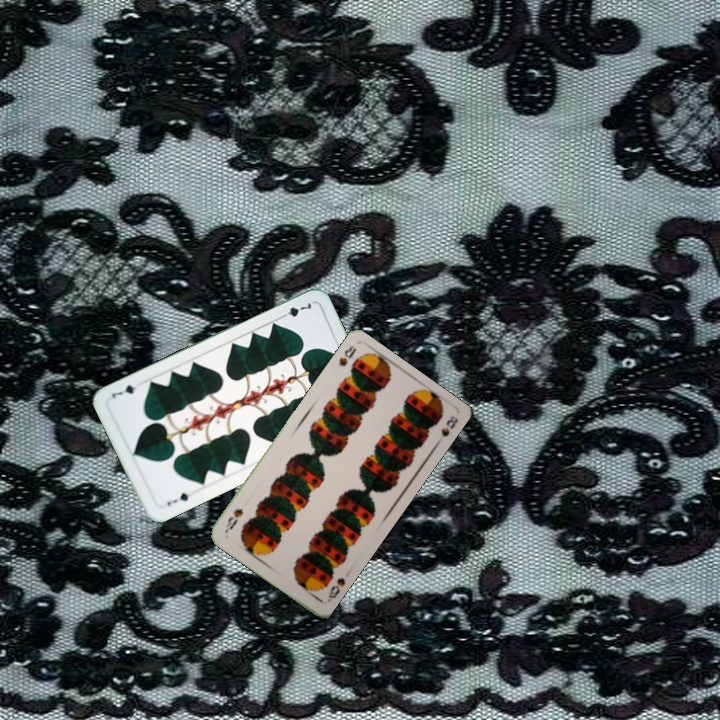G7: (276, 298, 315, 321), (163, 489, 196, 509)
S8: (323, 574, 348, 605), (335, 342, 359, 369)
